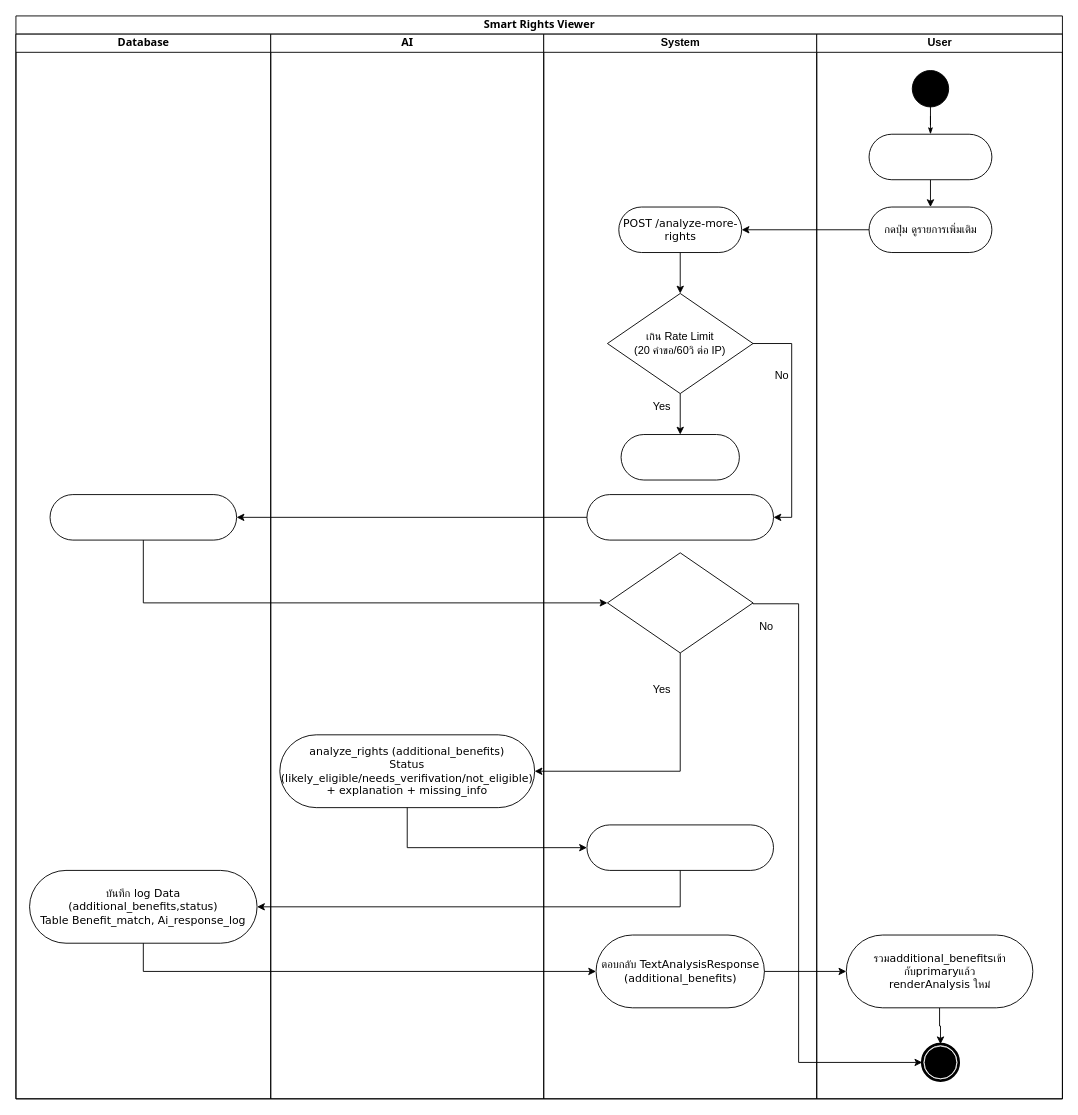
This 1078x1115 diagram has some shape labels left out. Here are the shapes that lost their labels. From the top down, the centre of each, then its label:
the point at 930,156: เห็นส่วน สิทธิที่อาจเกี่ยวข้องเพิ่มเติม
the point at 679,457: แจ้งผู้ใช้
the point at 143,517: ดึง Benefit ผ่าน slug
the point at 680,517: เรียก rag.lookup_benefits_by_slugs
the point at 680,602: พบสิทธิครบทุก slug ที่ขอมาหรือไม่
the point at 680,847: additional_benefits = 0 (ไม่มีสิทธิเพิ่มเติมในรอบนี้อีก)
